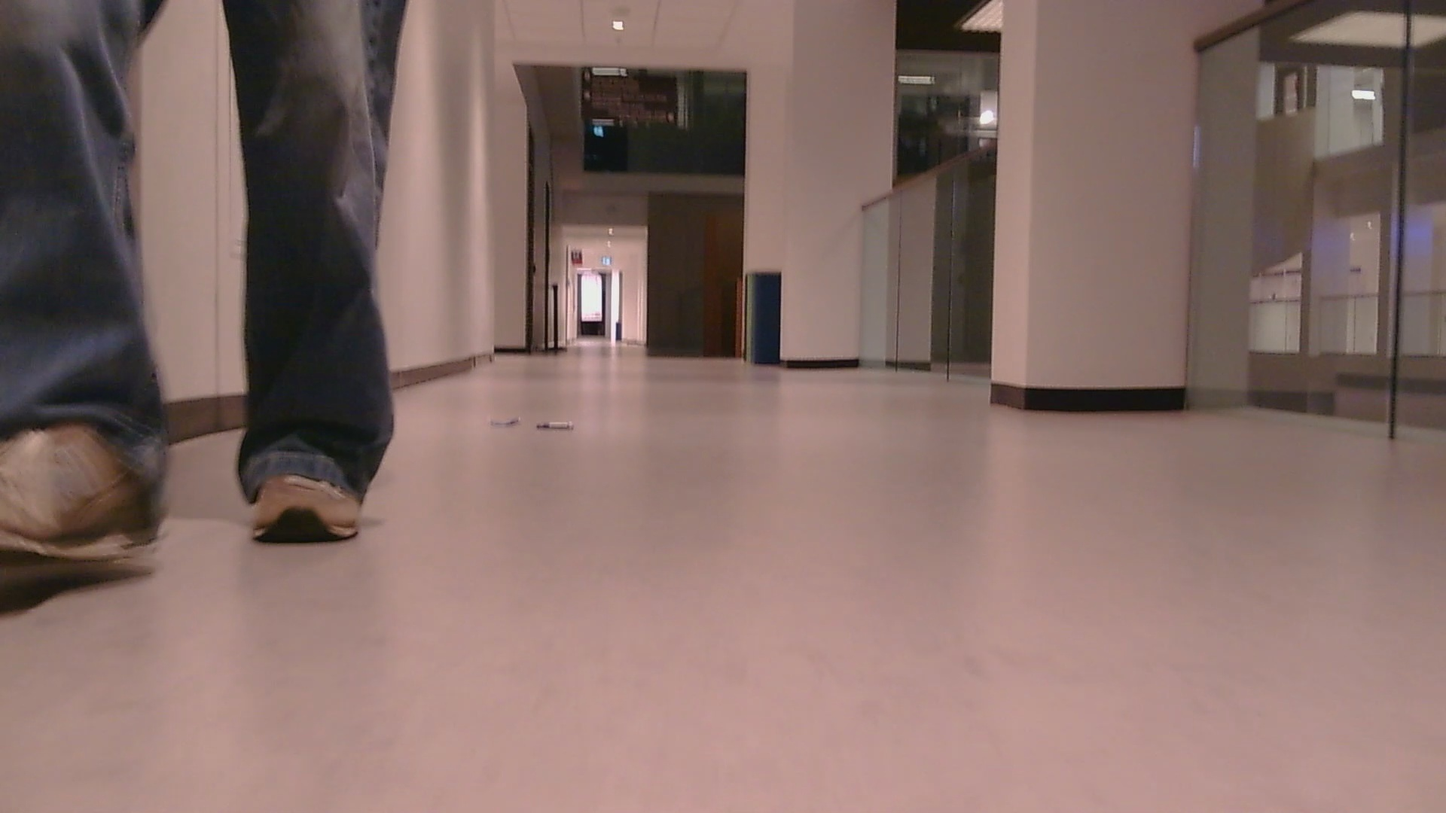carton: (539, 417, 581, 436), (490, 410, 523, 431)
